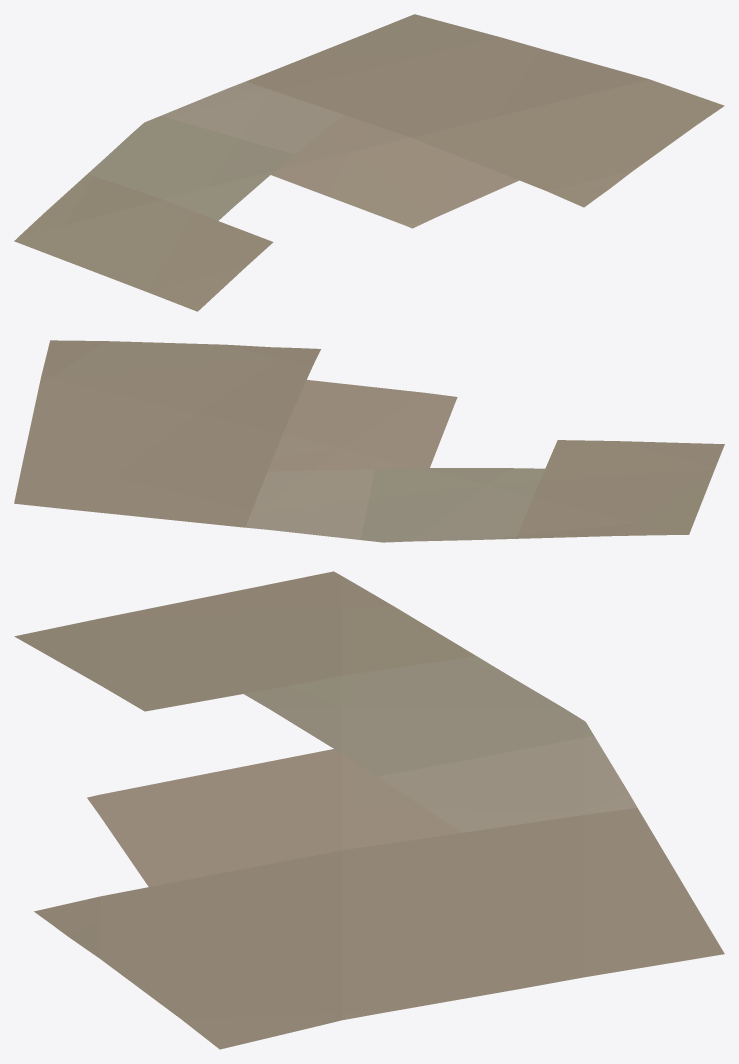
The model's file is farm_27_13_soil.glb.
The picture shows the model from 3 angles, top to bottom: view 1: azimuth 30°, elevation 25°; view 2: azimuth 150°, elevation 25°; view 3: azimuth 270°, elevation 25°; orthographic projection. The views are drawn at different scales.
Visible parts, largest first — view 1: geometry_0; view 2: geometry_0; view 3: geometry_0.
Boxes of the visible parts, bbox=[...] form: geometry_0: bbox=[14, 14, 724, 311]; geometry_0: bbox=[14, 340, 724, 542]; geometry_0: bbox=[14, 571, 724, 1049].
Bounding box in the file's own units: 373 × 6.72 × 234.
